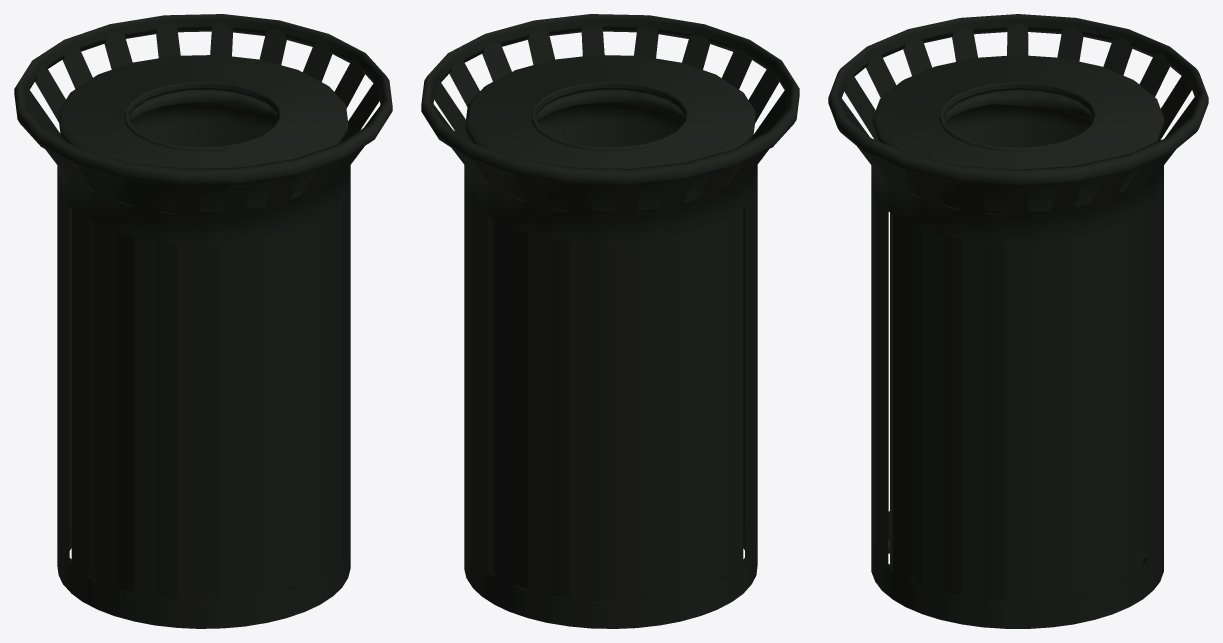
File: tj_trash_small.fbx
3 views of the same model, side by side, from view 1: azimuth 30°, elevation 25°; view 2: azimuth 150°, elevation 25°; view 3: azimuth 270°, elevation 25° (orthographic).
Visible parts, largest first — view 1: tj_trash_small_LOD0; view 2: tj_trash_small_LOD0; view 3: tj_trash_small_LOD0.
Part boxes in pixels (x1,y1,x2,y2): tj_trash_small_LOD0: (14, 14, 392, 628); tj_trash_small_LOD0: (421, 14, 799, 628); tj_trash_small_LOD0: (828, 14, 1208, 628).
Size of what is drawn, in the model's own units: 0.6304 by 0.8688 by 0.6304.
